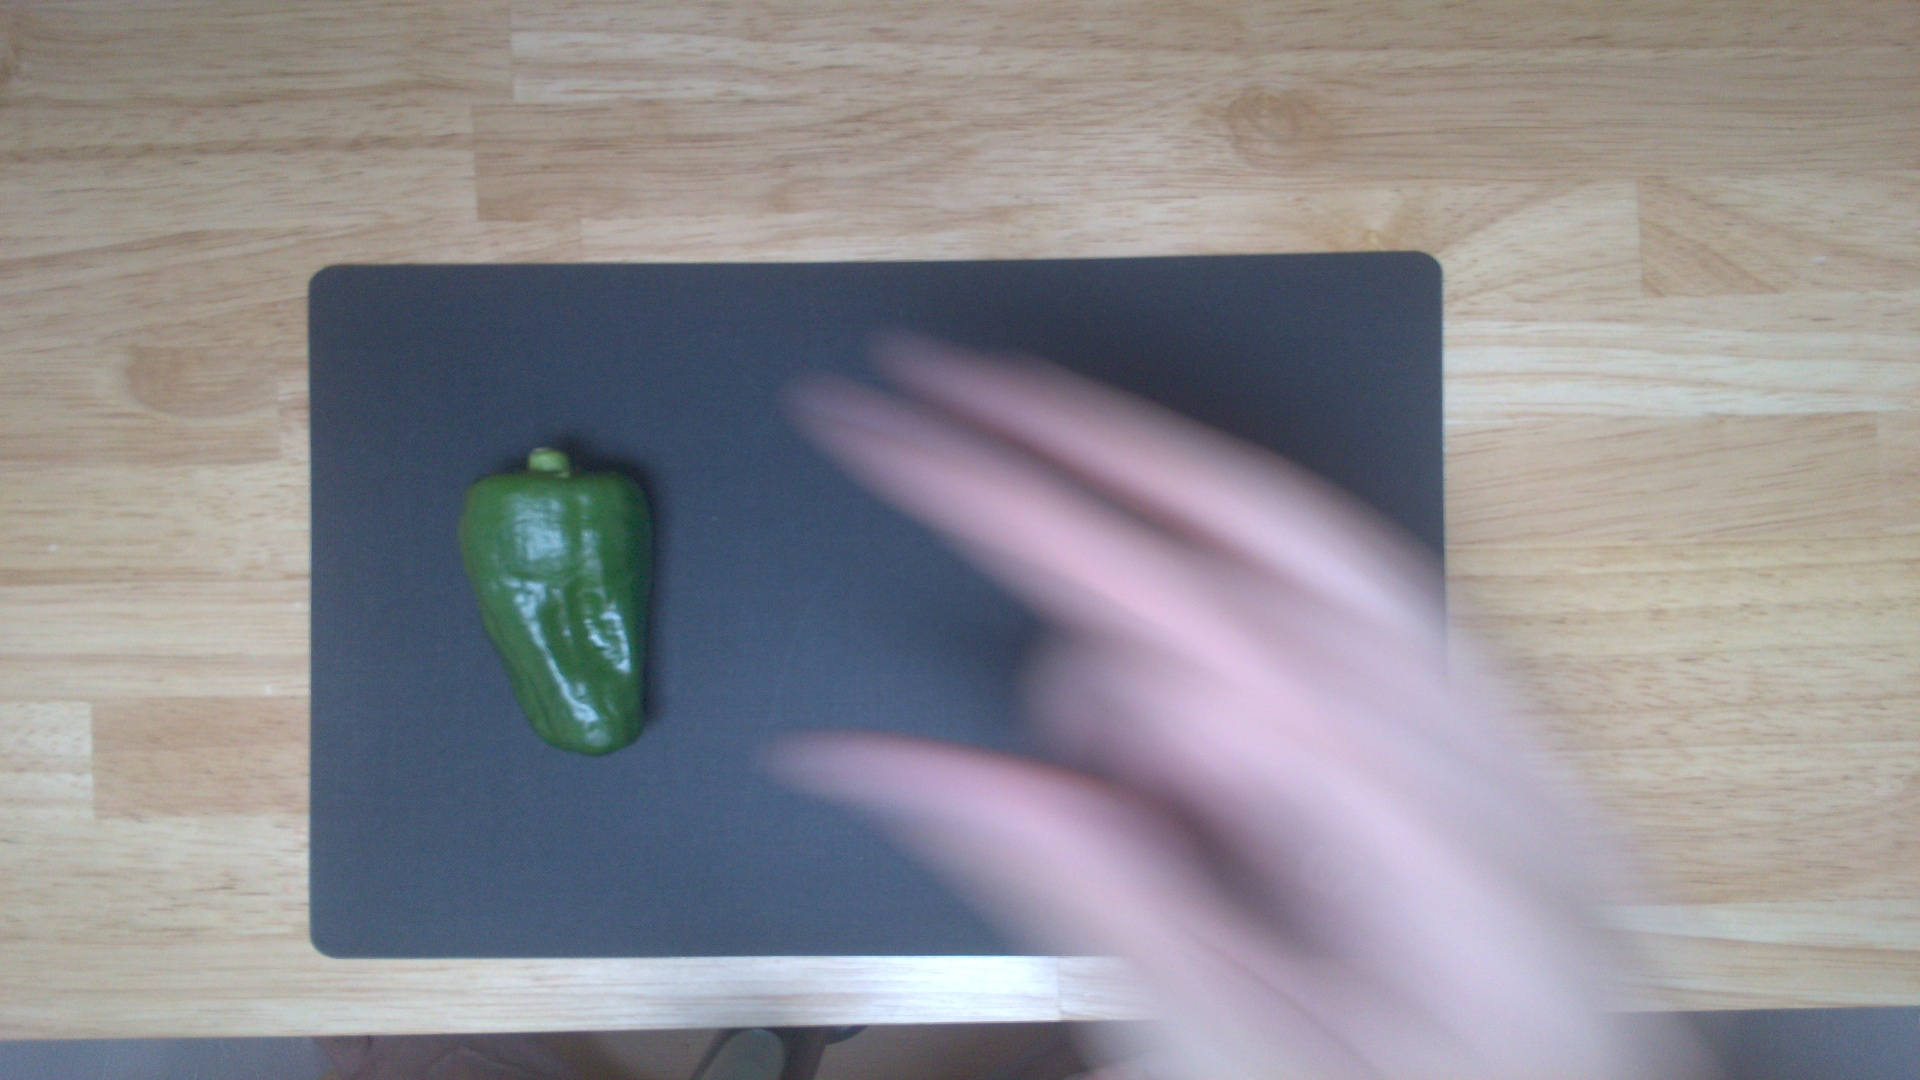Piman: (447, 436, 662, 752)
